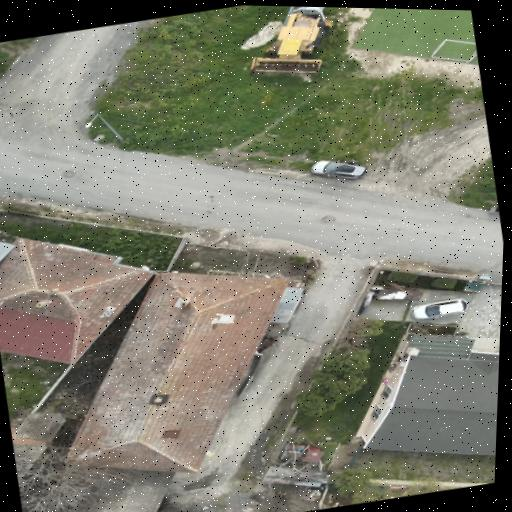car: (412, 299, 467, 319), (312, 160, 366, 179)
harvester: (252, 6, 331, 73)
